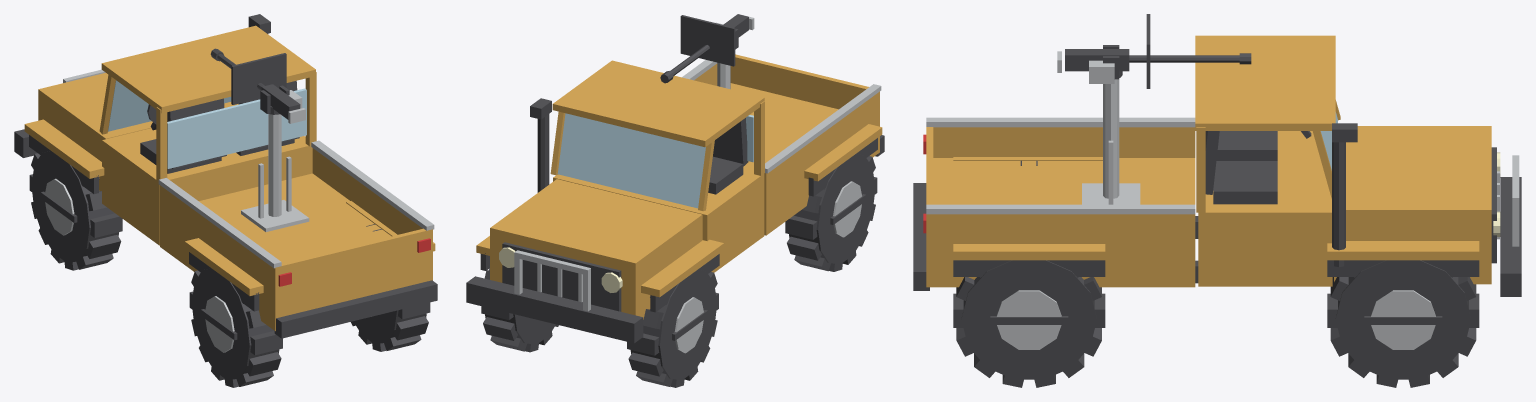
The model's file is technical.glb.
3 views of the same model, side by side, from view 1: azimuth 30°, elevation 25°; view 2: azimuth 150°, elevation 25°; view 3: azimuth 270°, elevation 25° (orthographic). The views are drawn at different scales.
Parts seen in each view (by area): view 1: body, wheel_FL, wheel_RL, wheel_RR, turret, gun; view 2: body, wheel_RL, wheel_FL, wheel_FR, turret, gun; view 3: body, wheel_FR, wheel_RR, gun, turret.
Boxes of the visible parts, left/top/right/bottom form: body: left=14, top=14, right=437, bottom=338; wheel_FL: left=29, top=151, right=122, bottom=270; wheel_RL: left=189, top=268, right=282, bottom=387; wheel_RR: left=351, top=224, right=430, bottom=351; turret: left=231, top=53, right=289, bottom=114; gun: left=210, top=48, right=305, bottom=123; body: left=466, top=54, right=884, bottom=343; wheel_RL: left=785, top=154, right=877, bottom=271; wheel_FL: left=627, top=270, right=718, bottom=387; wheel_FR: left=481, top=268, right=558, bottom=352; turret: left=680, top=15, right=738, bottom=66; gun: left=660, top=14, right=754, bottom=83; body: left=913, top=35, right=1521, bottom=296; wheel_FR: left=1327, top=260, right=1479, bottom=387; wheel_RR: left=953, top=260, right=1105, bottom=387; gun: left=1057, top=49, right=1251, bottom=83; turret: left=1103, top=14, right=1150, bottom=88.
Size of the model in its own units: 2.14 by 2.91 by 5.2.
